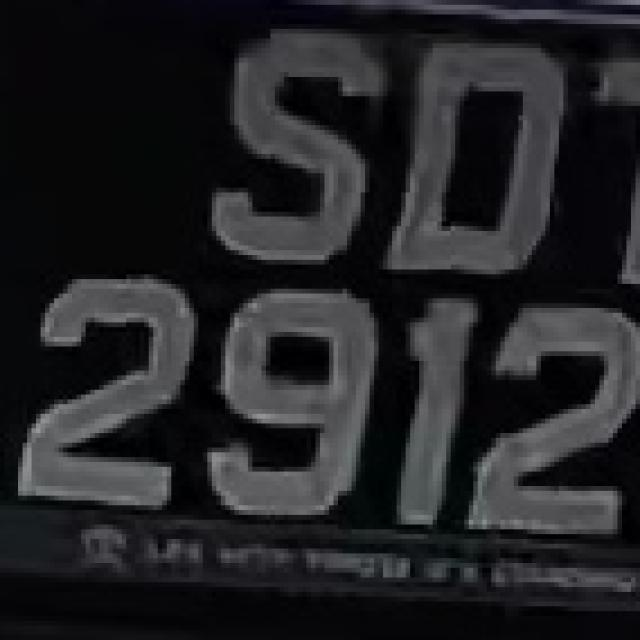1: (397, 265, 473, 553)
2: (31, 250, 194, 544), (464, 279, 631, 553)
9: (221, 274, 383, 534)
D: (383, 15, 568, 298)
S: (202, 19, 378, 274)
